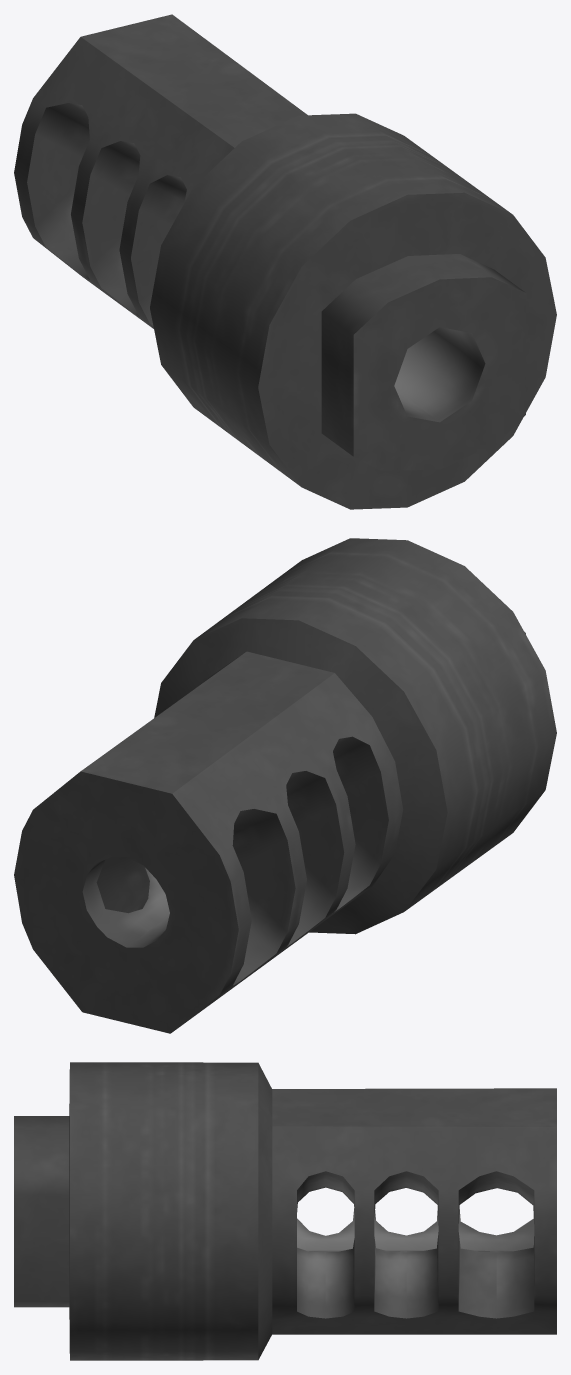
The model's file is IG_Acc_Muzzle_SNP_SCA_2.fbx.
The picture shows the model from 3 angles, top to bottom: view 1: azimuth 30°, elevation 25°; view 2: azimuth 150°, elevation 25°; view 3: azimuth 270°, elevation 25°; orthographic projection. The views are drawn at different scales.
Parts seen in each view (by area): view 1: Muzzle_SNP_SCA_2; view 2: Muzzle_SNP_SCA_2; view 3: Muzzle_SNP_SCA_2.
Boxes of the visible parts, box(x1,y1,x2,y2) form: Muzzle_SNP_SCA_2: box(14, 14, 556, 509); Muzzle_SNP_SCA_2: box(14, 538, 556, 1033); Muzzle_SNP_SCA_2: box(14, 1062, 556, 1360).
Bounding box in the file's own units: 0.081 × 0.081 × 0.1471.
